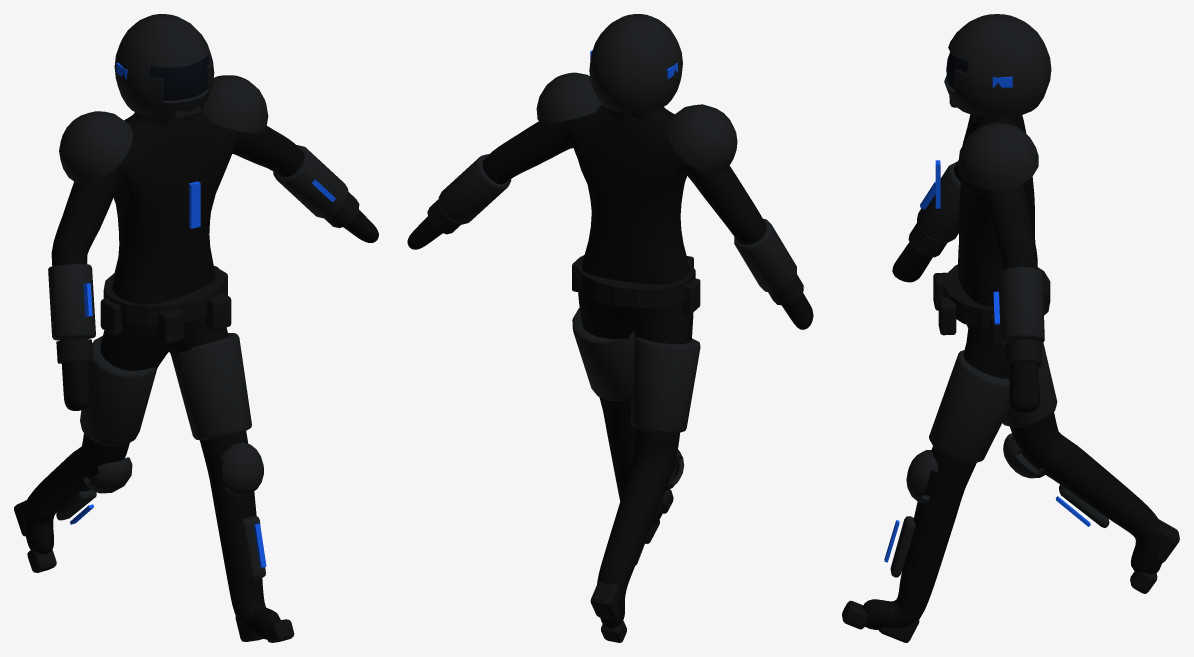
File: Playerble.obj
3 views of the same model, side by side, from view 1: azimuth 30°, elevation 25°; view 2: azimuth 150°, elevation 25°; view 3: azimuth 270°, elevation 25° (orthographic). The views are drawn at different scales.
Visible parts, largest first — view 1: SFSoldier; view 2: SFSoldier; view 3: SFSoldier.
Part boxes in pixels (box(x1,y1,x2,y2)): SFSoldier: box(14, 14, 378, 642); SFSoldier: box(407, 14, 813, 642); SFSoldier: box(842, 14, 1179, 642).
Bounding box in the file's own units: 1.1 × 1.71 × 0.8701.
